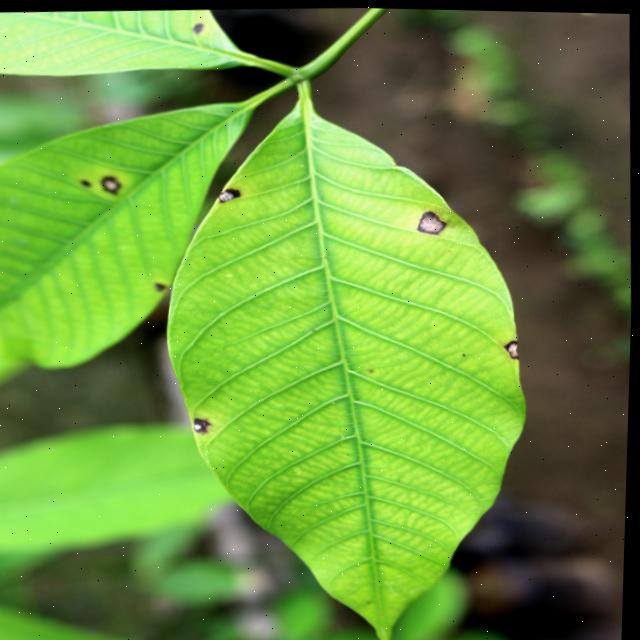Colletotrichum: (417, 207, 449, 233), (219, 185, 242, 200), (196, 415, 213, 431)
